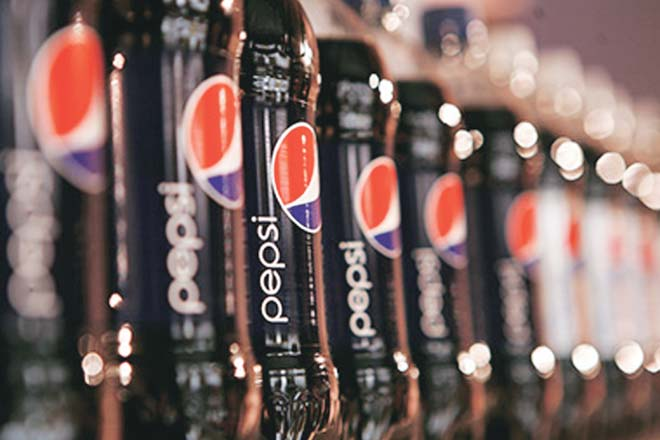pepsi: (24, 18, 104, 194), (24, 22, 104, 194), (175, 60, 244, 209), (175, 72, 244, 209), (269, 117, 321, 234), (269, 119, 321, 234), (347, 148, 399, 257), (347, 154, 399, 257), (352, 154, 399, 257), (421, 168, 468, 271), (503, 185, 539, 282)
